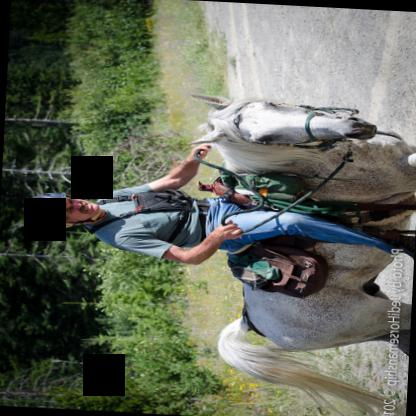backpack: (227, 243, 325, 297)
